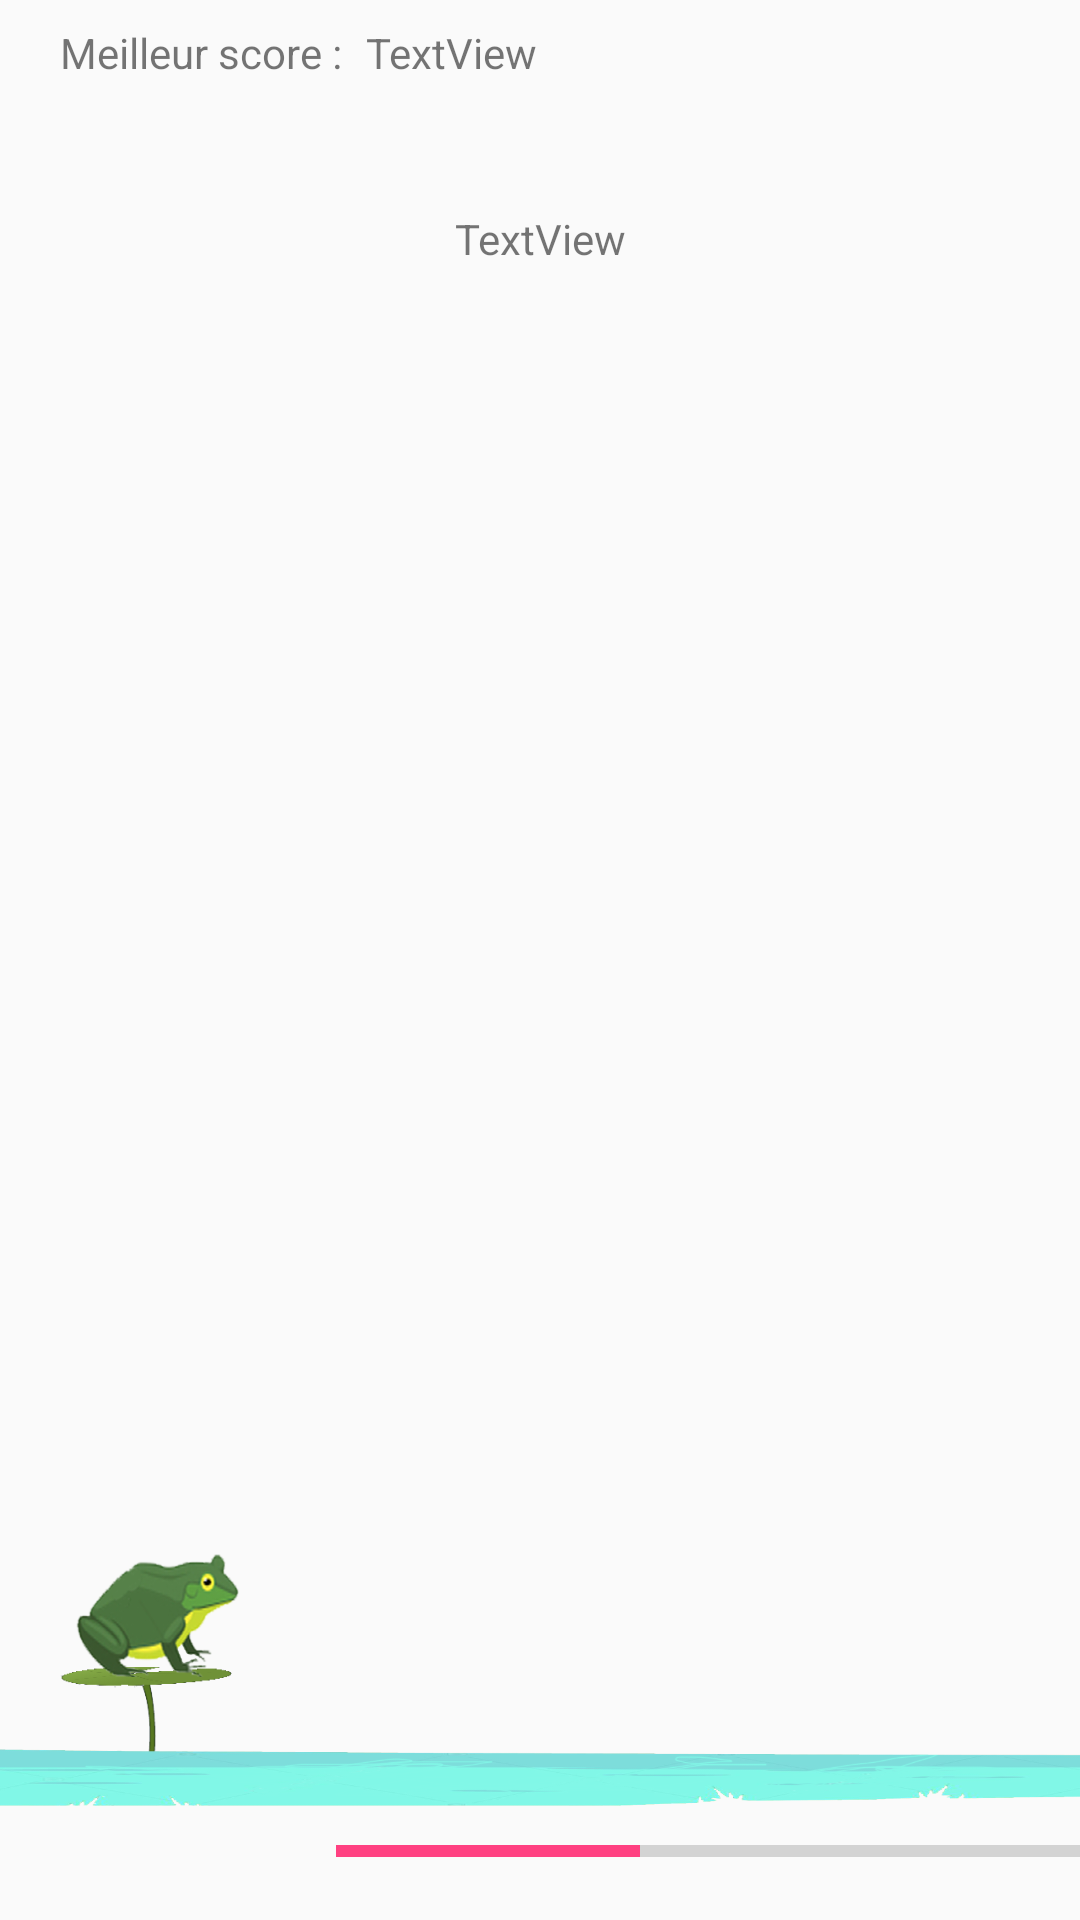

Icon click points for this 1080px x 1920px phone screenshot, format (x=x, y=y):
frog: (x=150, y=1615)
nenuphar: (x=148, y=1723)
